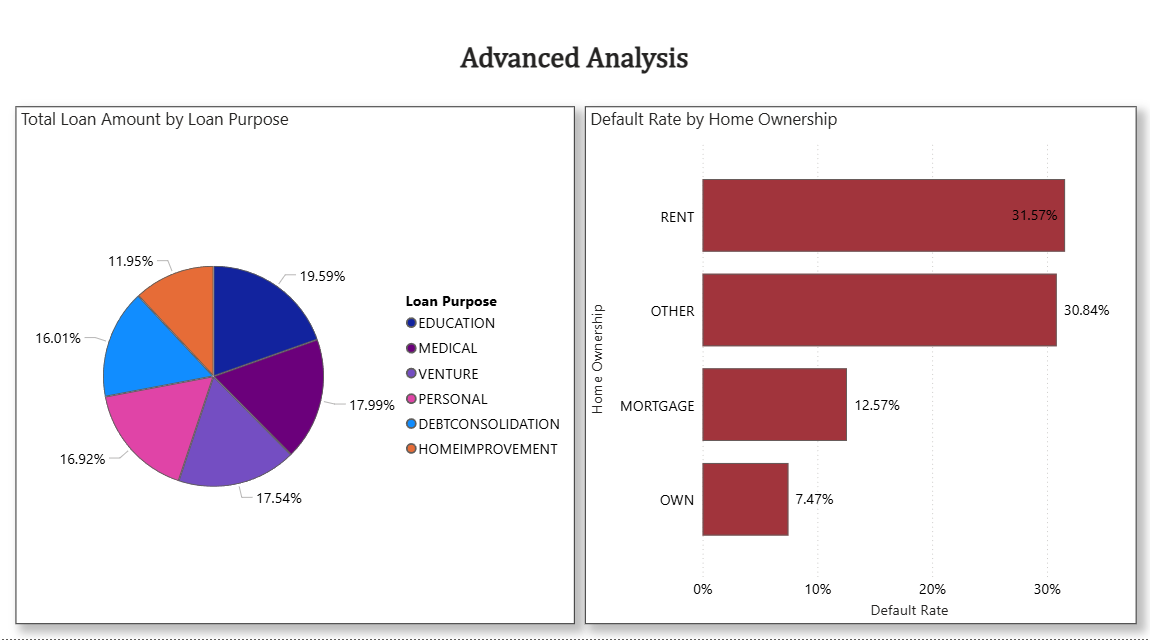

What the dashboard file says about the page in this screenshot:
{"tool":"powerbi","page":{"name":"Dashboard-2","canvas":[1280,720],"ordinal":9},"visuals":[{"type":"pieChart","fields":{"Category":["credit_risk.Loan Purpose"],"Y":["credit_risk.Total Loan Amount"]},"box":[17.4,127.3,622.2,575.9],"z":0},{"type":"clusteredBarChart","fields":{"Y":["credit_risk.Default Rate"],"Category":["credit_risk.Home Ownership"]},"box":[651.2,127.3,613.5,575.9],"z":1000},{"type":"textbox","box":[477.5,50.6,324.1,47.8],"z":2000}]}

Visuals, with their boxes in screenshot pixels (x1, y1, x2, y2), scaled from the page's 1280x720 canvas onto the 1150x640 screenshot:
pieChart - credit_risk.Loan Purpose x credit_risk.Total Loan Amount: (left=16, top=113, right=575, bottom=625)
clusteredBarChart - credit_risk.Default Rate x credit_risk.Home Ownership: (left=585, top=113, right=1136, bottom=625)
textbox: (left=429, top=45, right=720, bottom=87)
